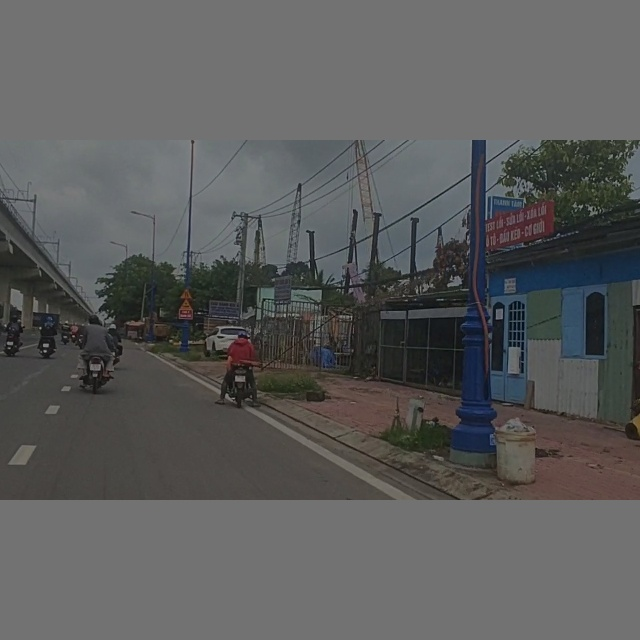W.203c: (181, 289, 194, 299)
W.245a: (179, 299, 193, 309)
